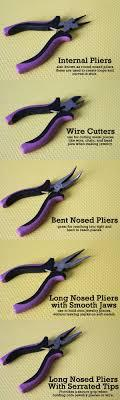pliers: (0, 247, 90, 314), (0, 324, 82, 392), (4, 93, 84, 153)
